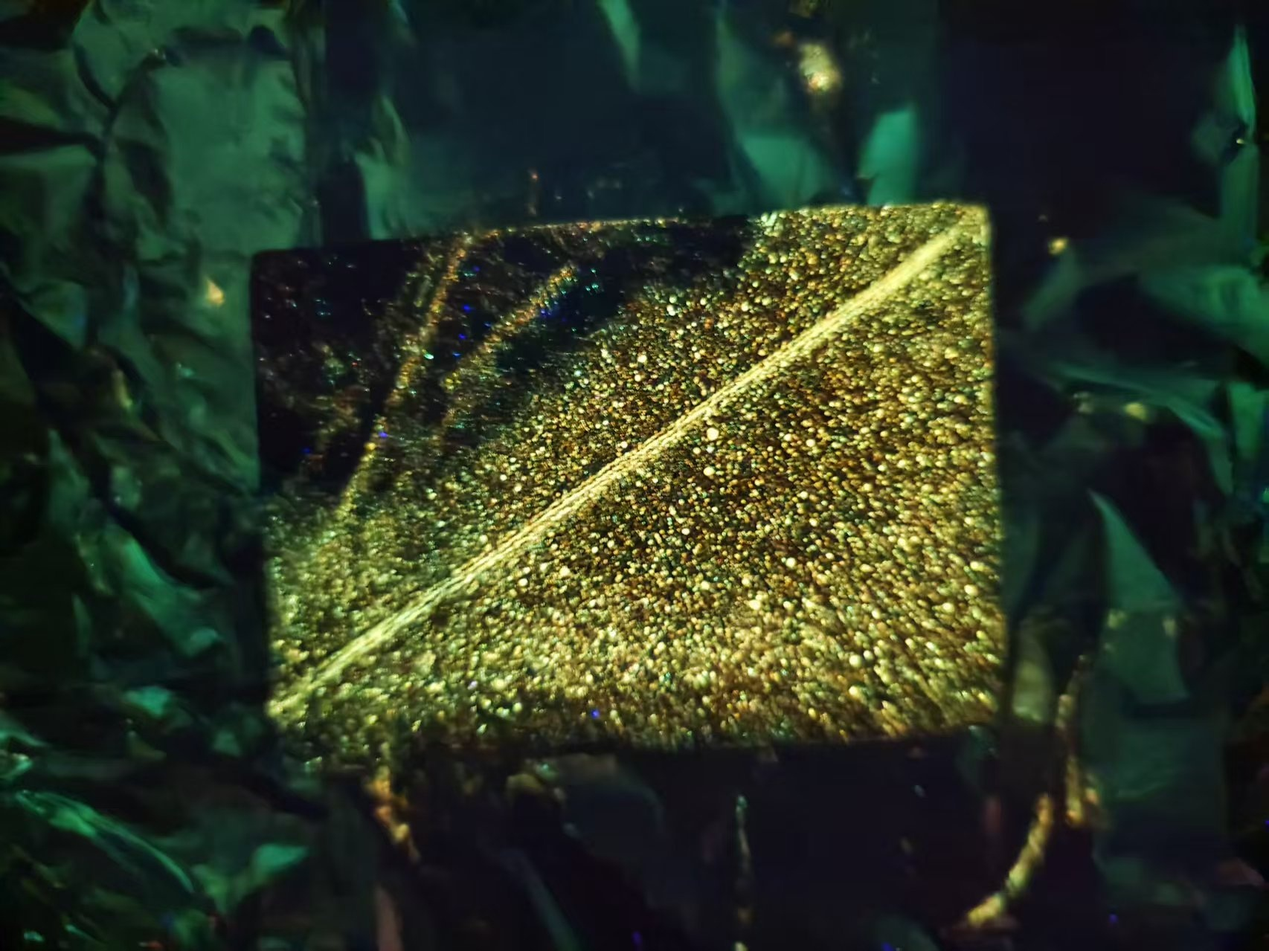Fissure: (268, 222, 965, 715)
